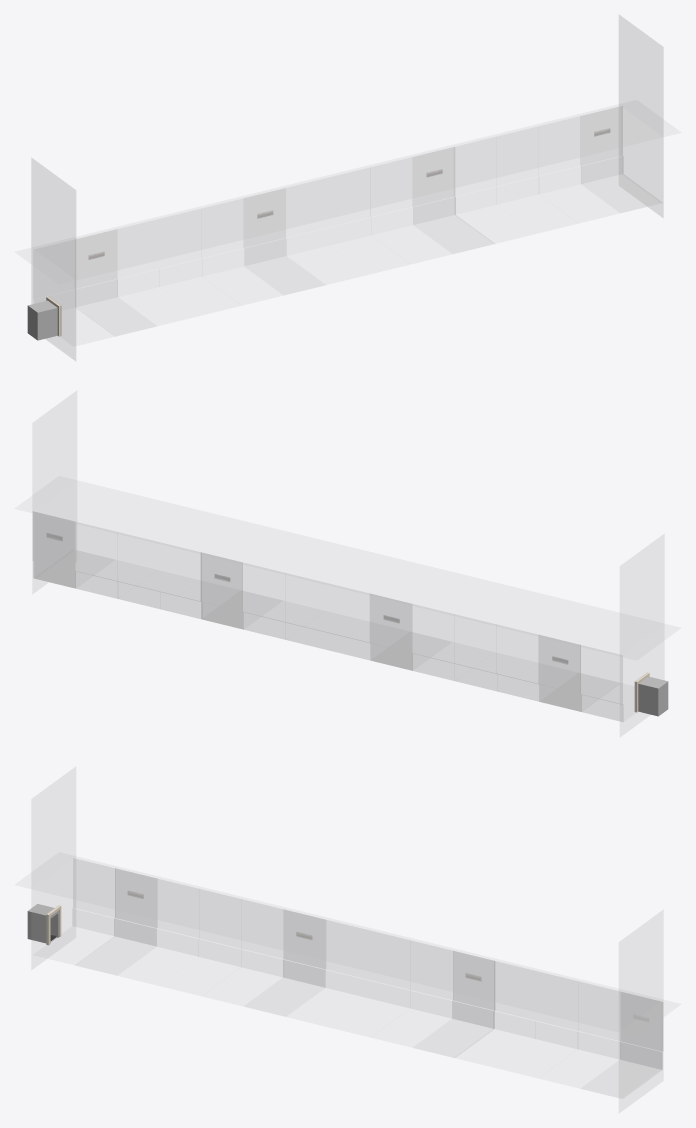
Rendered from nivelboss.fbx.
3 views of the same model, one above another, from view 1: azimuth 30°, elevation 25°; view 2: azimuth 150°, elevation 25°; view 3: azimuth 330°, elevation 25° (orthographic).
Parts seen in each view (by area): view 1: Plane.002, Plane.001, Plane, Wall.014, Wall.011, Wall.001, Wall.009, Wall.012, Wall.003, Wall.010, Wall.002, Wall.013 (+10 smaller); view 2: Plane.002, Plane, Plane.001, Wall.003, Wall.013, Wall.009, Wall.002, Wall.010, Wall.015, Wall.005, Wall.007, Wall (+10 smaller); view 3: Plane.002, Plane.001, Plane, Wall.010, Wall.009, Wall.001, Wall.012, Wall.003, Wall.002, Wall.011, Wall.014, Wall.017 (+10 smaller).
Boxes of the visible parts, bbox=[...] form: Plane.002: bbox=[15, 100, 680, 283]; Plane.001: bbox=[619, 15, 662, 217]; Plane: bbox=[32, 158, 75, 360]; Wall.014: bbox=[496, 127, 577, 233]; Wall.011: bbox=[286, 178, 367, 284]; Wall.001: bbox=[117, 219, 198, 325]; Wall.009: bbox=[329, 168, 409, 273]; Wall.012: bbox=[454, 137, 535, 243]; Wall.003: bbox=[160, 209, 240, 315]; Wall.010: bbox=[371, 158, 451, 263]; Wall.002: bbox=[202, 199, 282, 304]; Wall.013: bbox=[539, 117, 619, 222]; Plane.002: bbox=[15, 476, 680, 659]; Plane: bbox=[620, 534, 663, 736]; Plane.001: bbox=[33, 391, 76, 593]; Wall.003: bbox=[454, 614, 534, 690]; Wall.013: bbox=[75, 522, 155, 598]; Wall.009: bbox=[285, 573, 366, 649]; Wall.002: bbox=[412, 604, 493, 680]; Wall.010: bbox=[243, 563, 323, 639]; Wall.015: bbox=[33, 512, 113, 588]; Wall.005: bbox=[370, 594, 450, 670]; Wall.007: bbox=[201, 553, 280, 629]; Wall: bbox=[539, 635, 618, 711]; Plane.002: bbox=[15, 853, 680, 1036]; Plane.001: bbox=[619, 910, 662, 1112]; Plane: bbox=[32, 767, 75, 969]; Wall.010: bbox=[371, 941, 452, 1047]; Wall.009: bbox=[330, 931, 410, 1036]; Wall.001: bbox=[117, 879, 198, 985]; Wall.012: bbox=[454, 962, 535, 1067]; Wall.003: bbox=[160, 889, 241, 995]; Wall.002: bbox=[203, 900, 283, 1005]; Wall.011: bbox=[287, 920, 367, 1026]; Wall.014: bbox=[497, 972, 577, 1077]; Wall.017: bbox=[34, 859, 114, 964].
Bounding box in the file's own units: 5856 × 1532 × 730.
